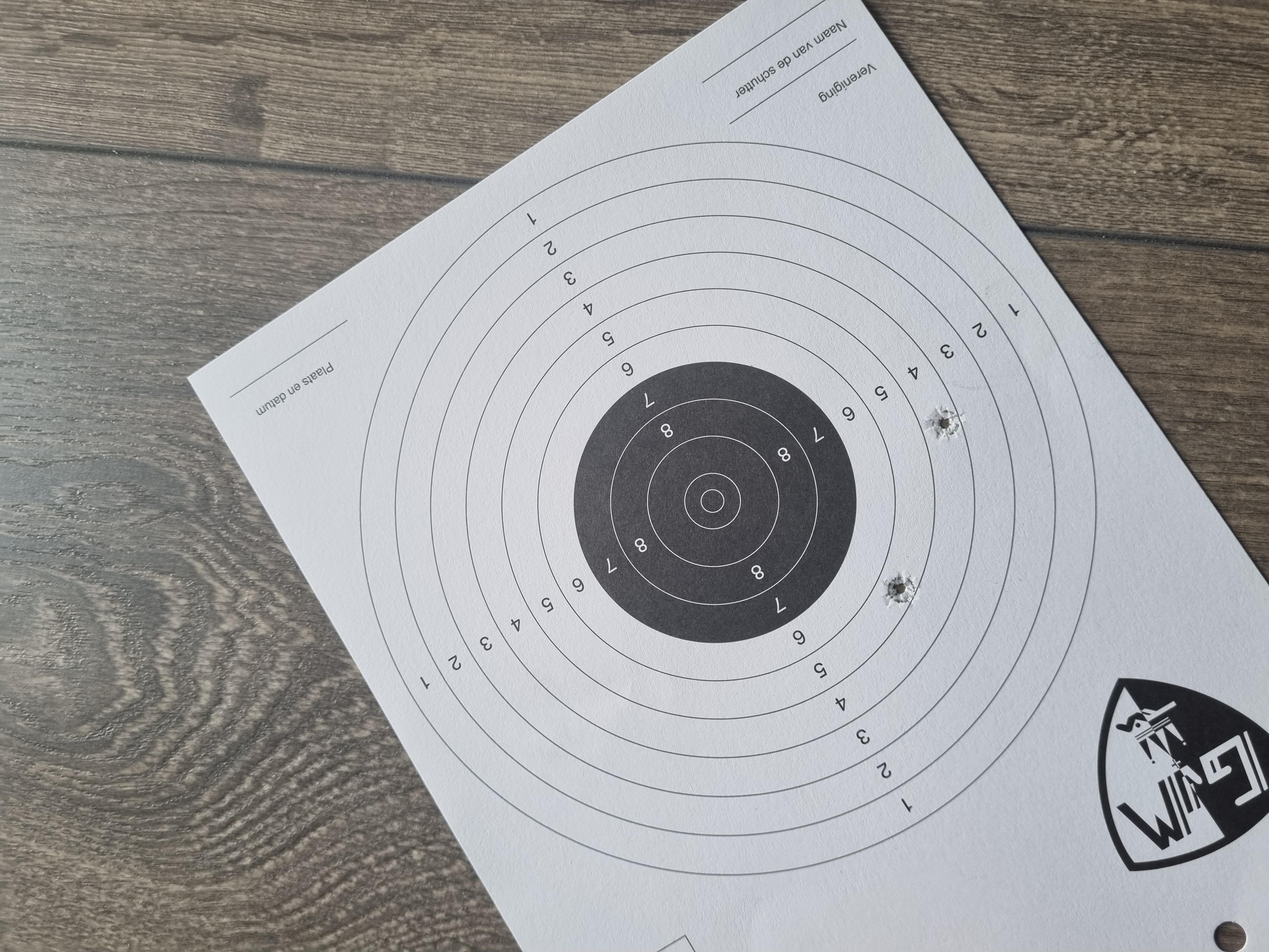hole: (681, 694, 728, 724), (459, 662, 502, 689)
